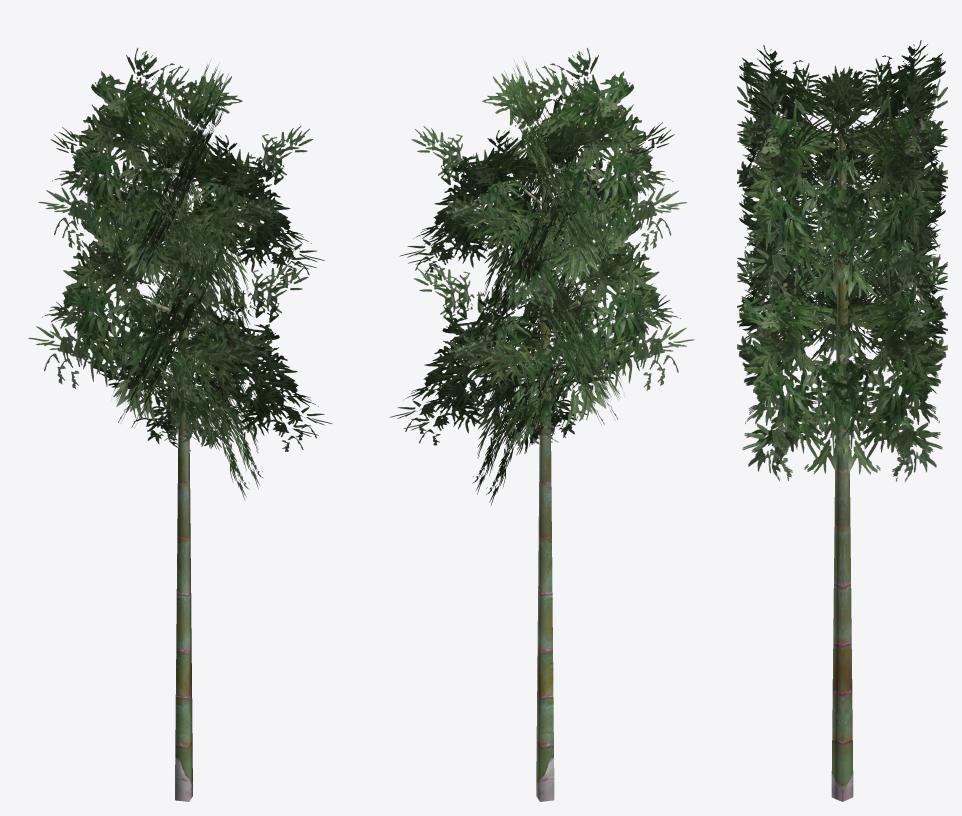
3 renders of one model, left to right at view 1: azimuth 30°, elevation 25°; view 2: azimuth 150°, elevation 25°; view 3: azimuth 270°, elevation 25°, orthographic. The views are drawn at different scales.
Visible parts, largest first — view 1: Sans_titre; view 2: Sans_titre; view 3: Sans_titre.
Part boxes in pixels (left/top/right/bottom): Sans_titre: left=28, top=48, right=332, bottom=801; Sans_titre: left=389, top=48, right=694, bottom=801; Sans_titre: left=737, top=40, right=947, bottom=801.
Size of the model in its own units: 5.73 by 17.15 by 4.21.
Materials: 2 (2 with a texture image).
